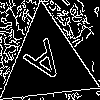A: (22, 38, 72, 95)
